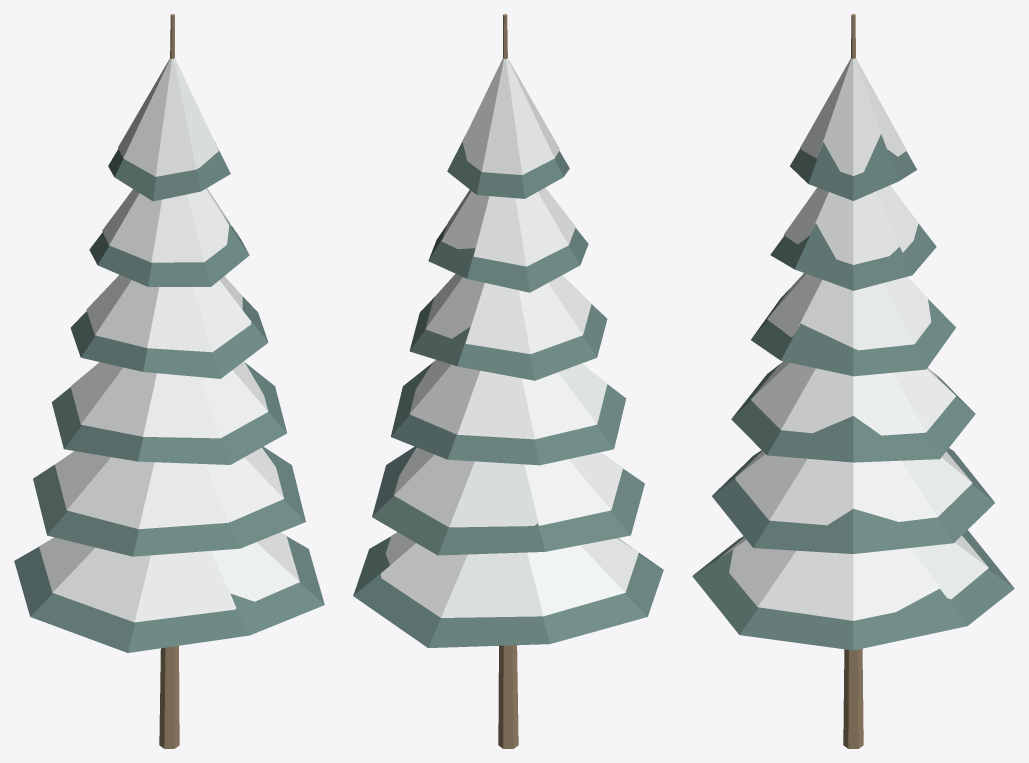
3 views of the same model, side by side, from view 1: azimuth 30°, elevation 25°; view 2: azimuth 150°, elevation 25°; view 3: azimuth 270°, elevation 25° (orthographic).
Bounding box in the file's own units: 10.15 × 25.4 × 10.15.
